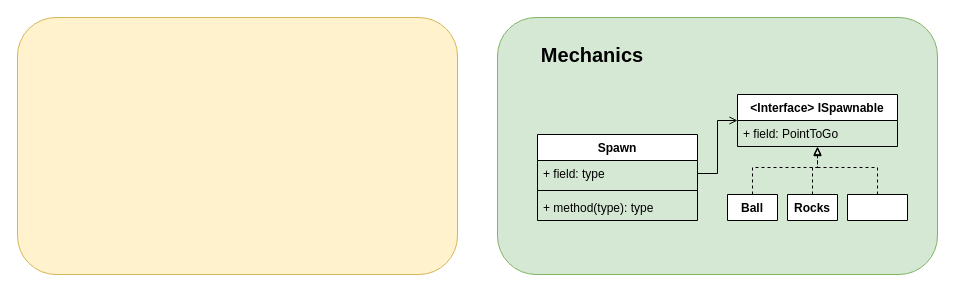
Image size: 955x292. Some labels were removed from this diagram. Each missing label, with the centre of its shape:
"Entities" belongs at (x=237, y=145).
"Platforms" belongs at (x=877, y=207).
